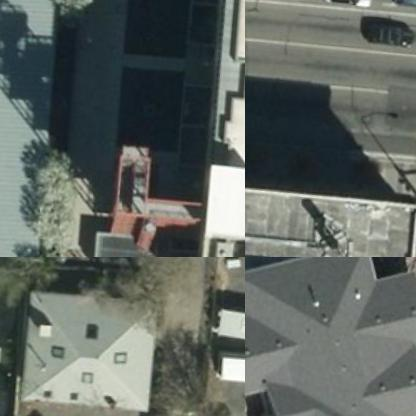car: (357, 18, 416, 53), (314, 0, 371, 15), (380, 0, 415, 20)
